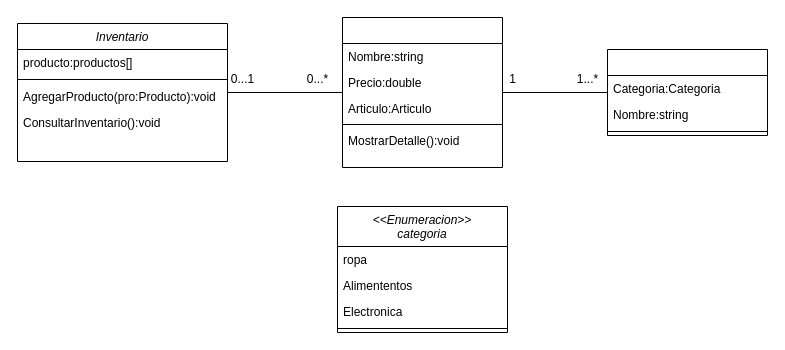
Image size: 785x350. Some labels were removed from this diagram. The box of each missing label's shape, as (x1, y1, x2, y2) in pixels:
Articulo: (606, 48, 768, 136)
Producto: (342, 16, 502, 168)
